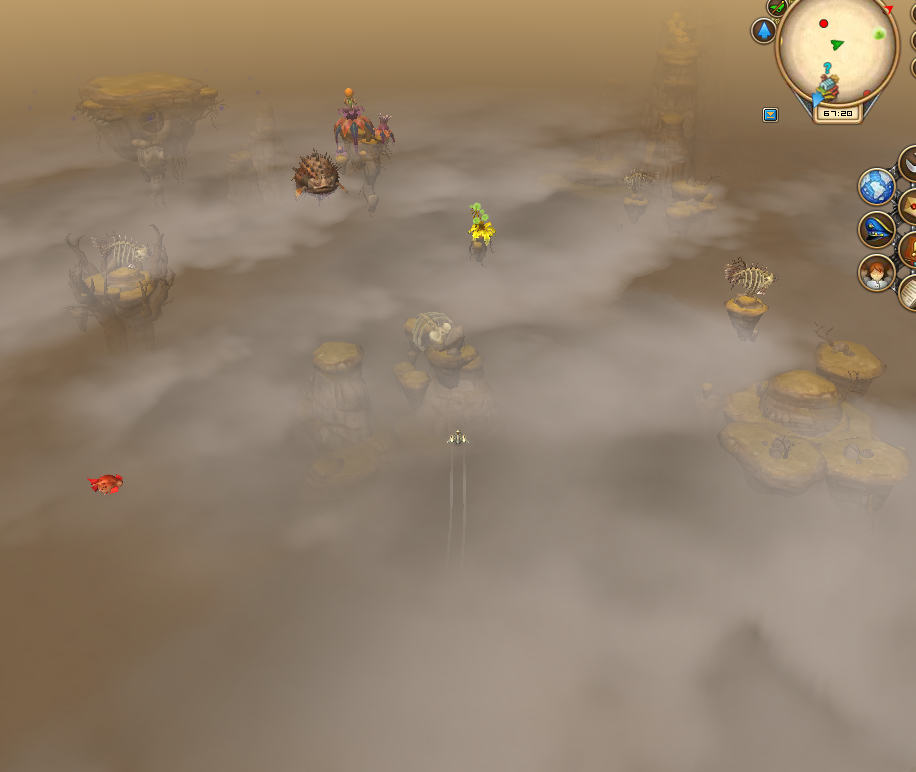dandelion-full: (462, 200, 498, 268)
